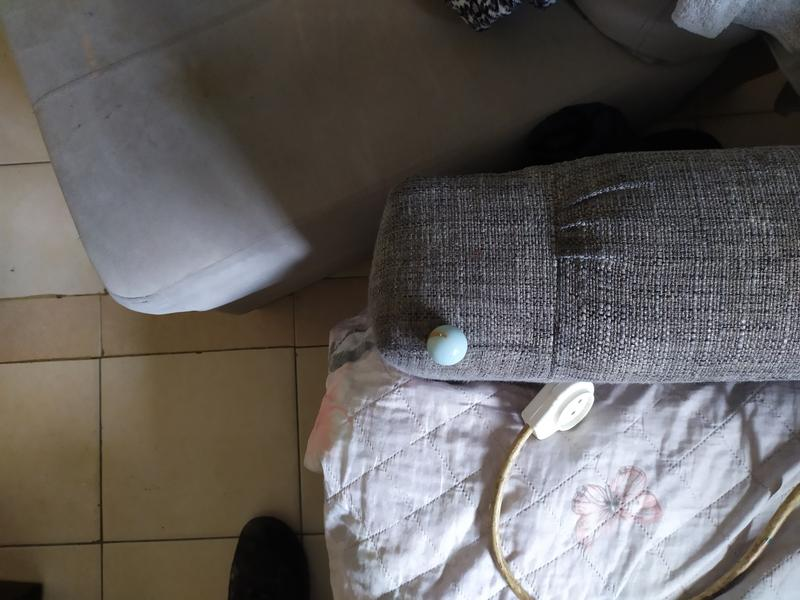Warning: (425, 323, 470, 368)
